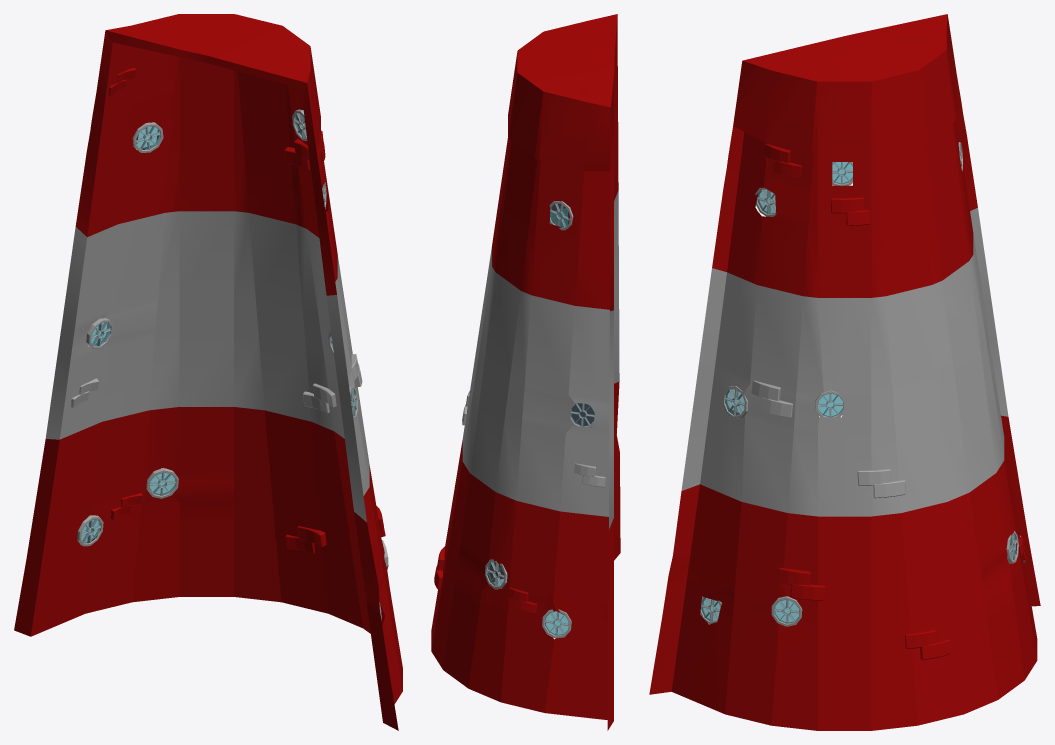
Rendered from Asset_Flighthouse.fbx.
3 views of the same model, side by side, from view 1: azimuth 30°, elevation 25°; view 2: azimuth 150°, elevation 25°; view 3: azimuth 270°, elevation 25° (orthographic). The views are drawn at different scales.
Visible parts, largest first — view 1: polySurface119; view 2: polySurface119; view 3: polySurface119.
Part boxes in pixels (x1,y1,x2,y2): polySurface119: (14, 14, 402, 730); polySurface119: (431, 14, 620, 730); polySurface119: (649, 14, 1040, 730).
Bounding box in the file's own units: 23.56 × 53.55 × 30.93.
